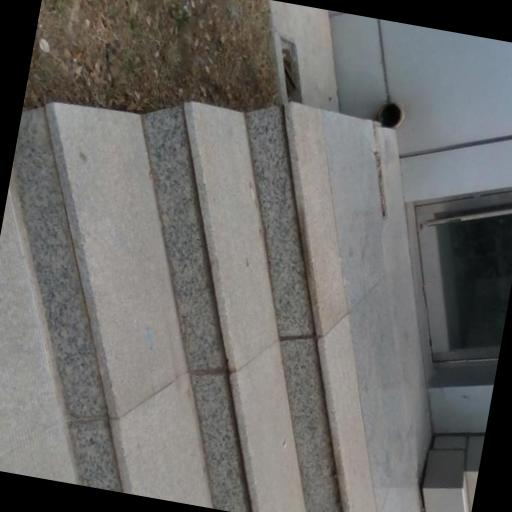stairs: (10, 101, 378, 511), (422, 434, 484, 511)
